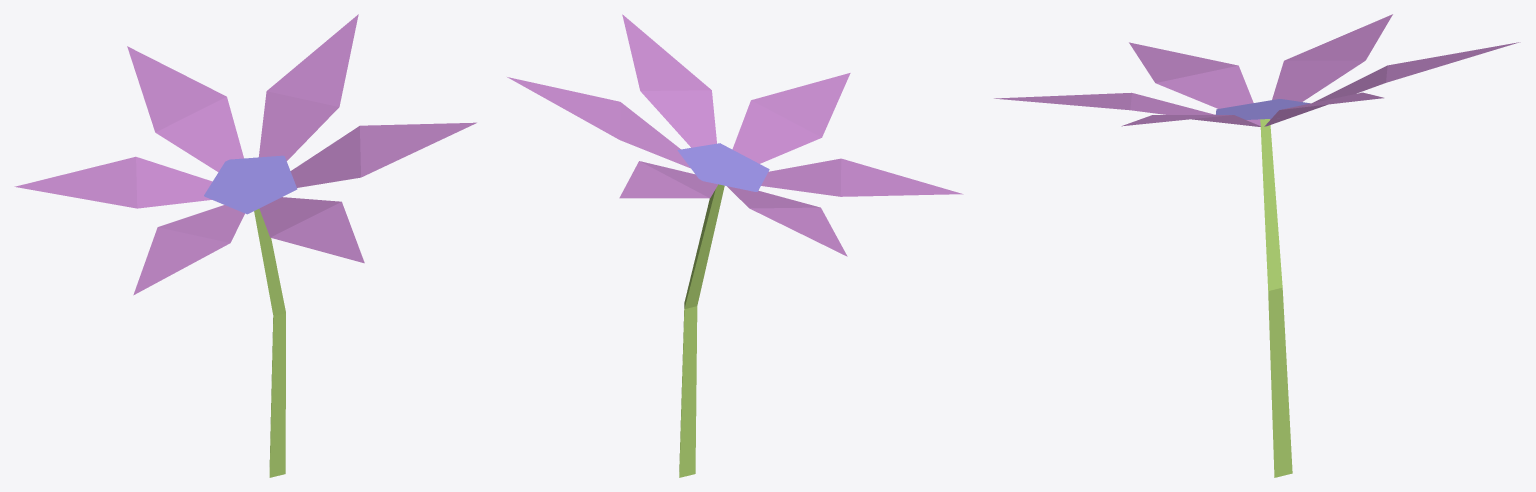
Rendered from Flower_b_OneS_02.fbx.
3 views of the same model, side by side, from view 1: azimuth 30°, elevation 25°; view 2: azimuth 150°, elevation 25°; view 3: azimuth 270°, elevation 25° (orthographic). The views are drawn at different scales.
Visible parts, largest first — view 1: Flower_b_OneS_02; view 2: Flower_b_OneS_02; view 3: Flower_b_OneS_02.
Boxes of the visible parts, x1=… form: Flower_b_OneS_02: x1=14, y1=14, x2=476, y2=477; Flower_b_OneS_02: x1=507, y1=14, x2=963, y2=477; Flower_b_OneS_02: x1=994, y1=14, x2=1520, y2=477.
Bounding box in the file's own units: 33.36 × 36.65 × 39.28.
